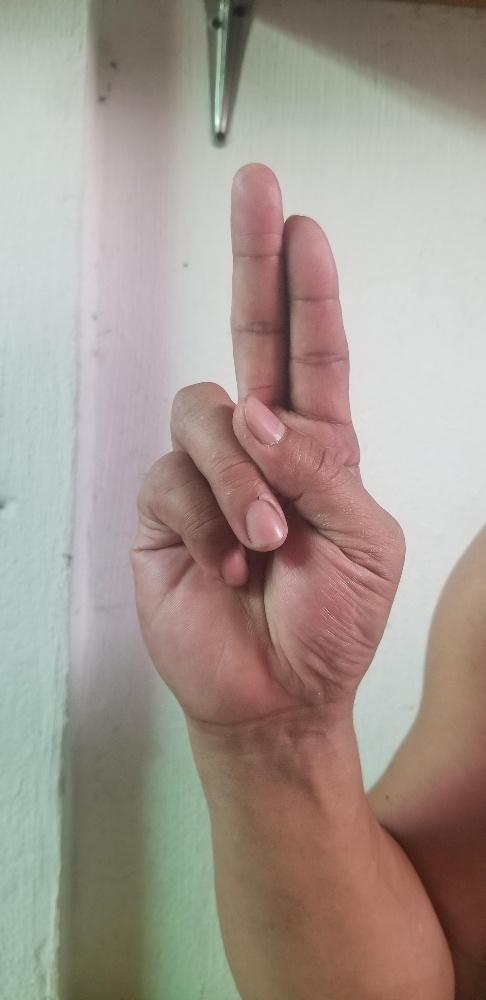u: (128, 163, 404, 722)
